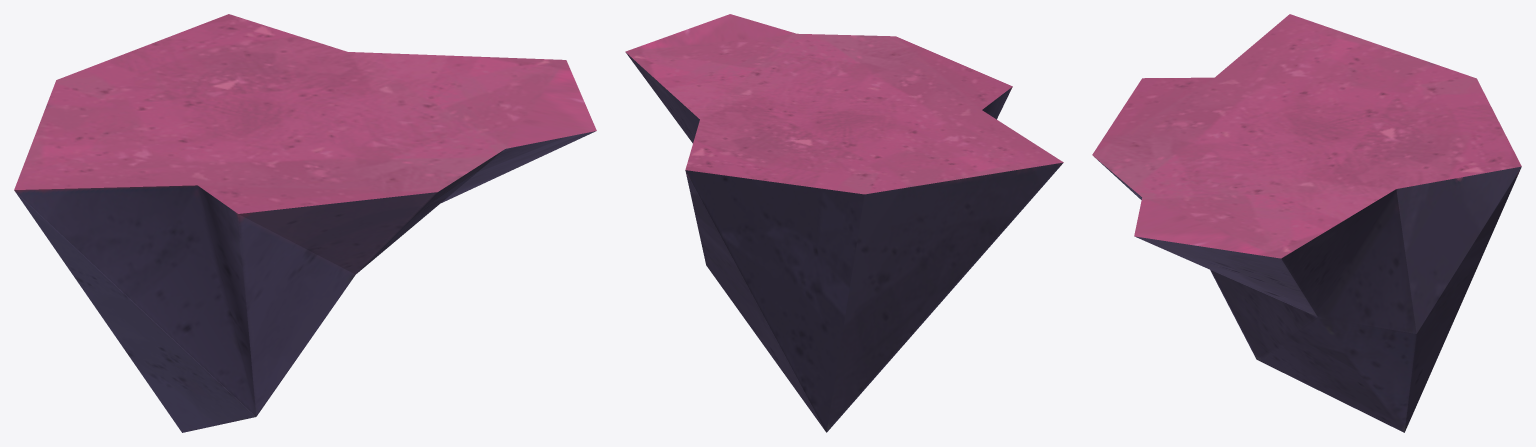
Rendered from floating_rock1.fbx.
3 views of the same model, side by side, from view 1: azimuth 30°, elevation 25°; view 2: azimuth 150°, elevation 25°; view 3: azimuth 270°, elevation 25° (orthographic). The views are drawn at different scales.
Parts seen in each view (by area): view 1: floating_rock1; view 2: floating_rock1; view 3: floating_rock1.
Part boxes in pixels (x1,y1,x2,y2): floating_rock1: [14, 14, 596, 432]; floating_rock1: [625, 14, 1063, 432]; floating_rock1: [1092, 14, 1521, 432].
Size of the model in its own units: 0.0493 by 0.0297 by 0.0366.
